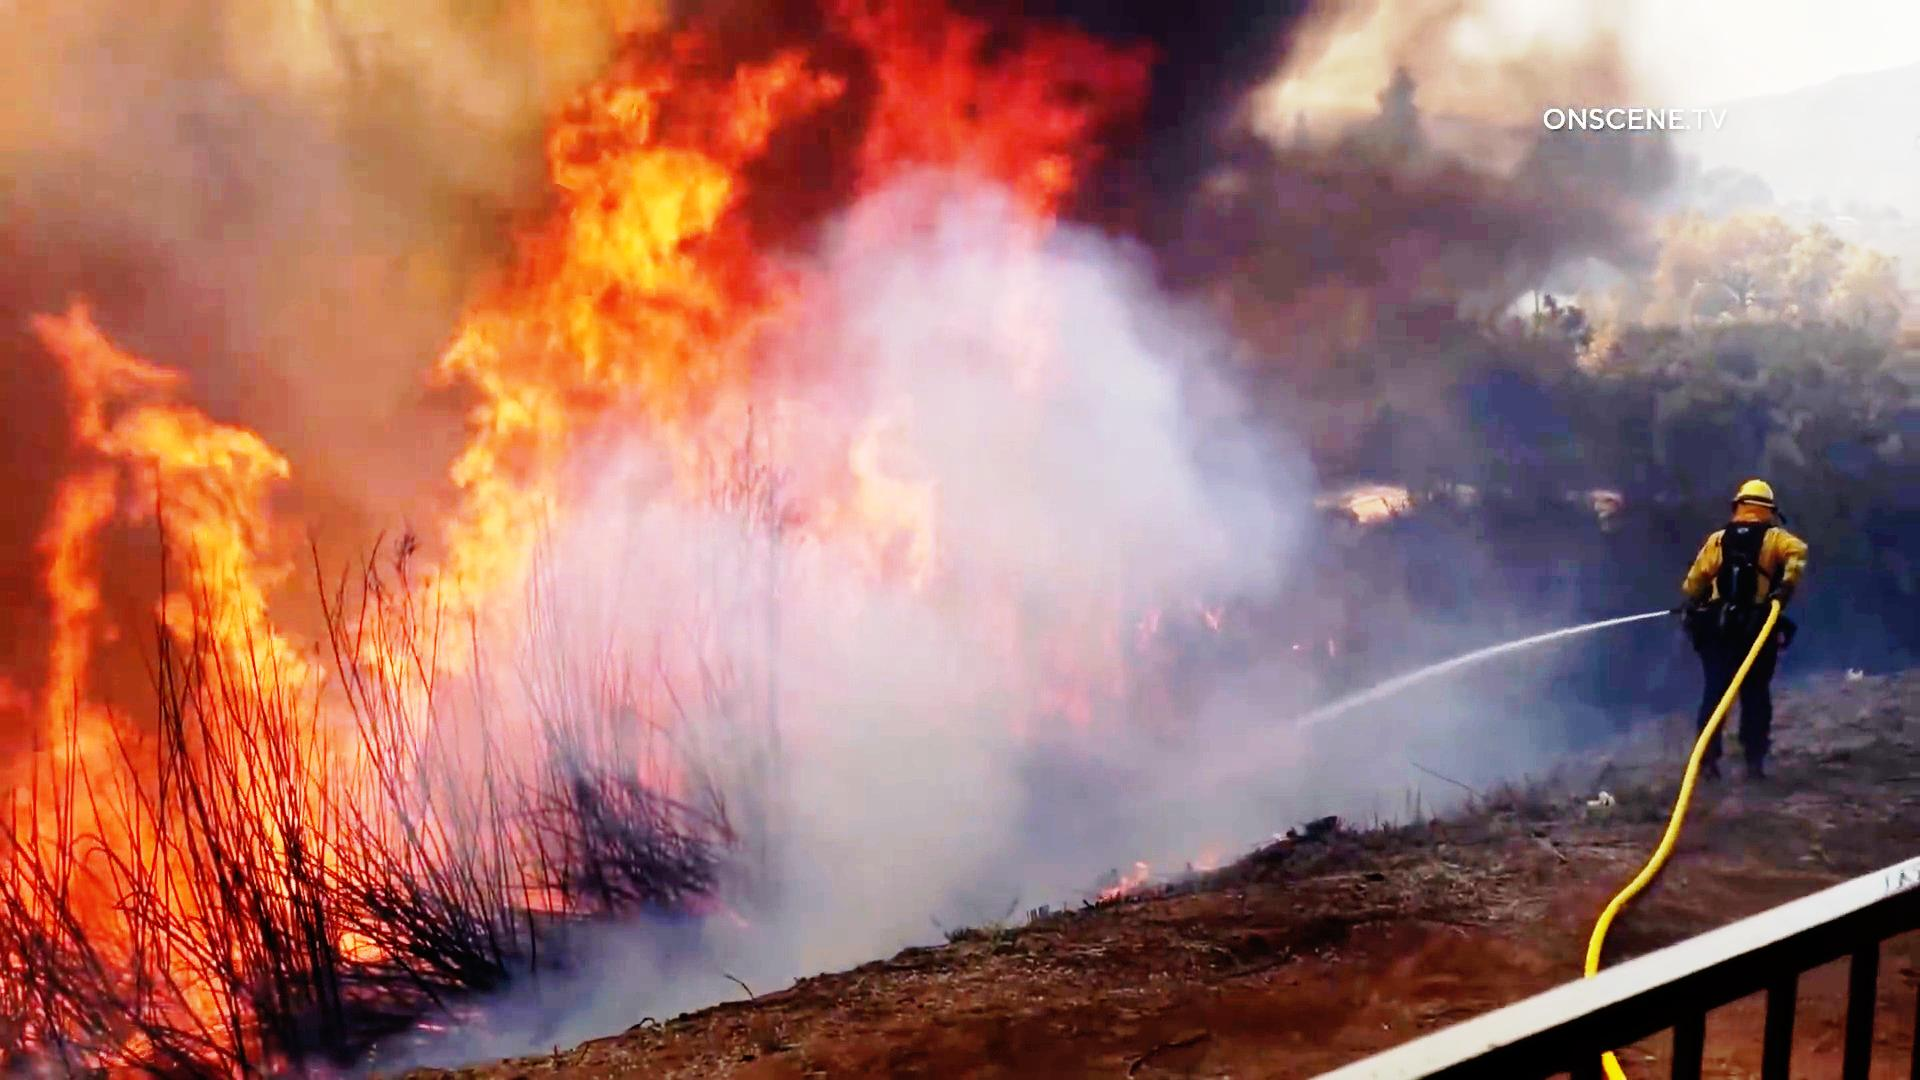fire: (5, 282, 575, 868), (585, 0, 924, 587), (915, 11, 1120, 211)
smoke: (11, 5, 501, 274), (1130, 16, 1520, 293)
